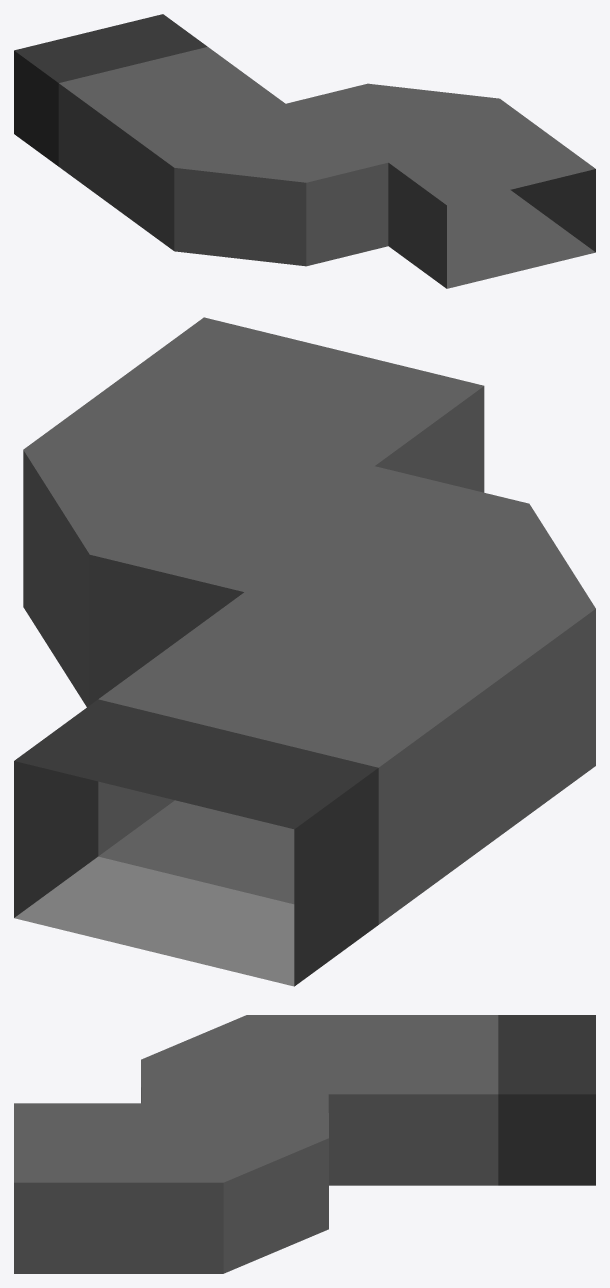
File: LowSegment.fbx
3 views of the same model, one above another, from view 1: azimuth 30°, elevation 25°; view 2: azimuth 150°, elevation 25°; view 3: azimuth 270°, elevation 25° (orthographic). The views are drawn at different scales.
Visible parts, largest first — view 1: LOwnSegment; view 2: LOwnSegment; view 3: LOwnSegment.
Part boxes in pixels (x1=…): LOwnSegment: x1=14, y1=14, x2=595, y2=288; LOwnSegment: x1=14, y1=317, x2=595, y2=986; LOwnSegment: x1=14, y1=1015, x2=595, y2=1273.
Bounding box in the file's own units: 59.15 × 15 × 86.81.
